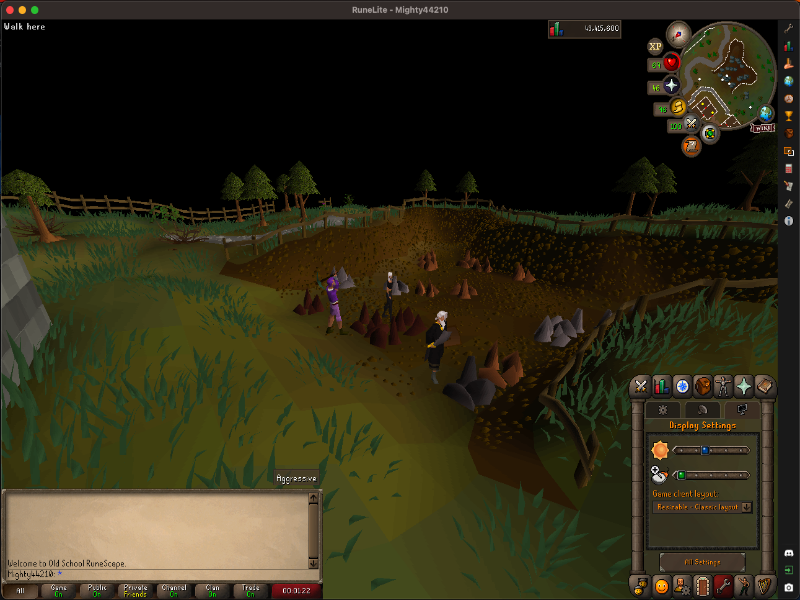iron: (403, 314, 420, 334), (377, 326, 395, 344), (300, 297, 318, 313), (356, 315, 367, 330)
